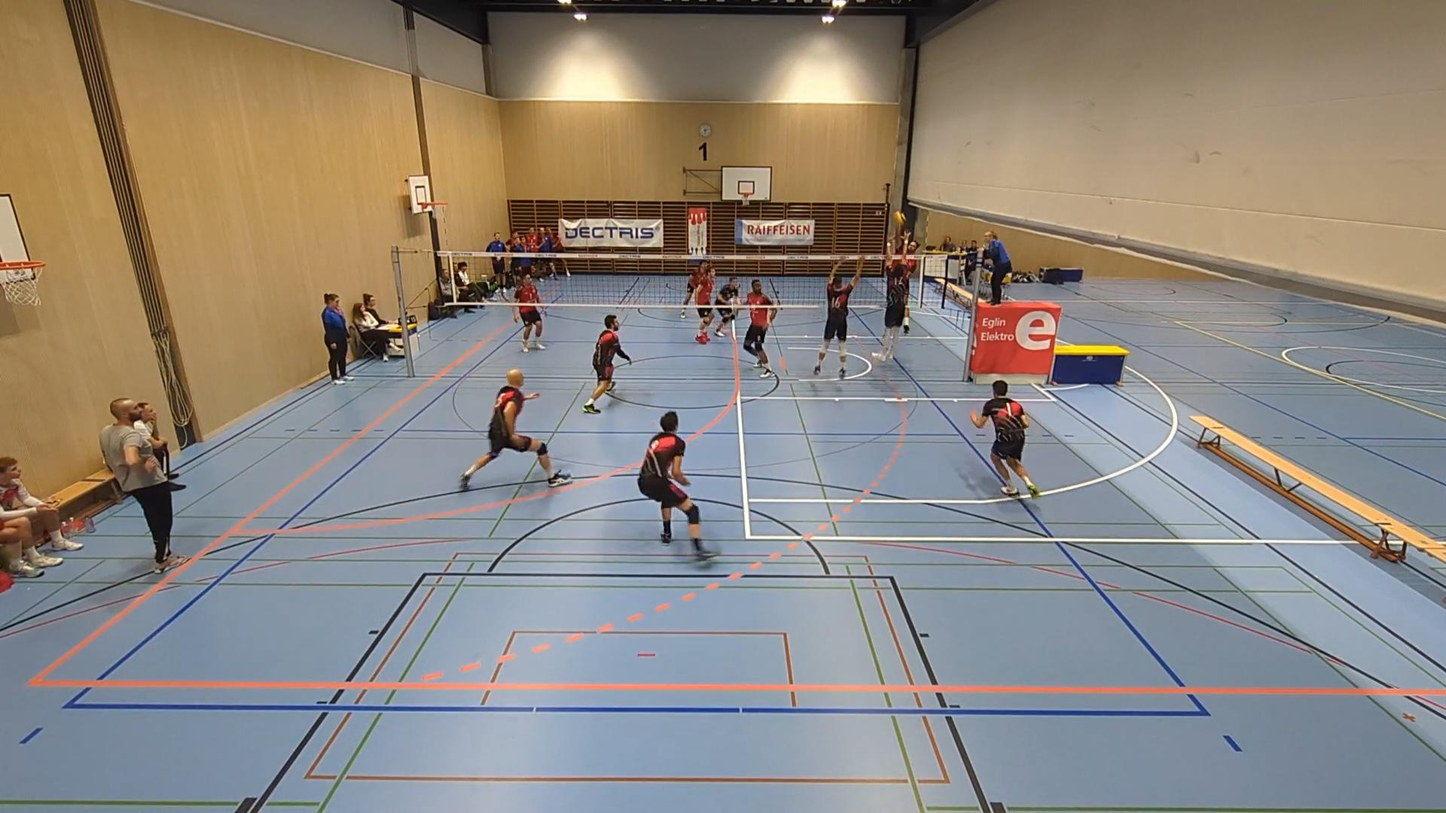Attack: (891, 232, 920, 332)
Block: (816, 256, 867, 374), (874, 240, 918, 367)
Player: (460, 369, 569, 488), (638, 412, 716, 559), (970, 380, 1039, 497), (582, 315, 630, 413), (743, 280, 777, 377), (514, 273, 545, 350), (694, 260, 714, 343), (680, 261, 706, 319), (714, 276, 739, 336)
ball: (890, 207, 907, 227)
